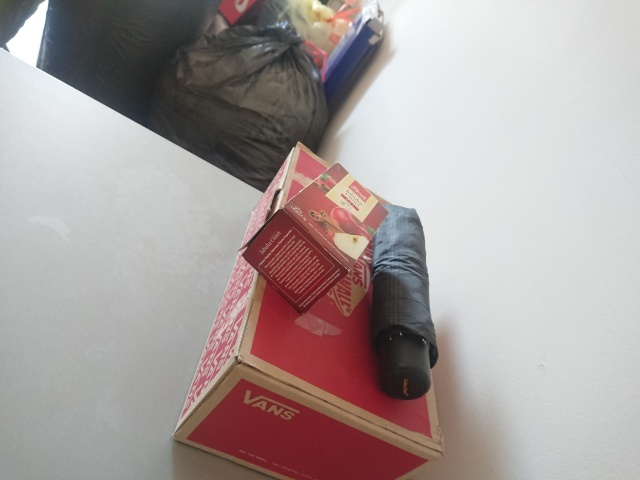Franck Apple Cinnamon Tea 60g: (234, 159, 392, 315)
